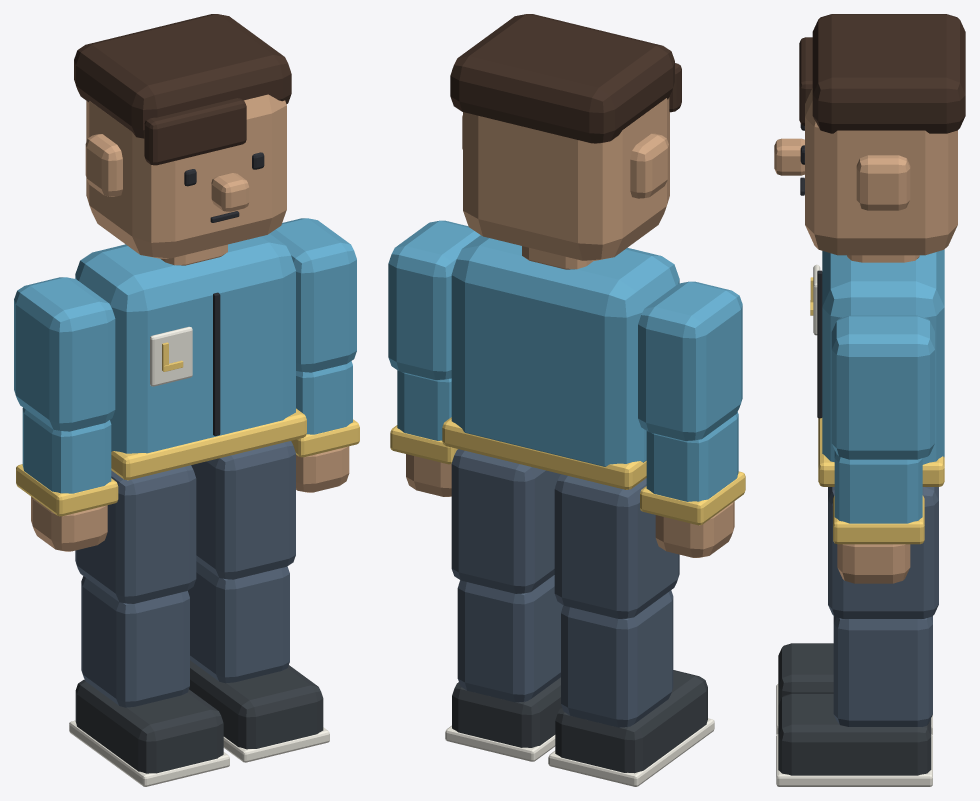
File: learner.glb
The picture shows the model from 3 angles, left to right: view 1: azimuth 30°, elevation 25°; view 2: azimuth 150°, elevation 25°; view 3: azimuth 270°, elevation 25°; orthographic projection. The views are drawn at different scales.
Visible parts, largest first — view 1: Jacket, Head, Hair cap, LeftSleeve, RightThigh, LeftThigh, LeftShin, RightShin, RightSleeve, LeftShoe, RightShoe, LeftForearm (+14 smaller); view 2: Jacket, Head, Hair cap, LeftSleeve, LeftThigh, RightThigh, LeftShin, RightShin, RightSleeve, LeftShoe, LeftForearm, RightShoe (+10 smaller); view 3: Hair cap, Head, RightSleeve, RightShin, Jacket, RightShoe, RightThigh, RightForearm, Ear.001, LeftShoe, RightHand, RightCuff (+7 smaller).
Boxes of the visible parts, bbox=[...] form: Jacket: bbox=[75, 233, 295, 453]; Head: bbox=[86, 94, 286, 258]; Hair cap: bbox=[74, 14, 291, 138]; LeftSleeve: bbox=[14, 277, 115, 431]; RightThigh: bbox=[191, 441, 295, 579]; LeftThigh: bbox=[75, 465, 196, 603]; LeftShin: bbox=[81, 576, 189, 707]; RightShin: bbox=[188, 561, 289, 683]; RightSleeve: bbox=[270, 218, 356, 372]; LeftShoe: bbox=[75, 679, 223, 773]; RightShoe: bbox=[189, 660, 323, 749]; LeftForearm: bbox=[22, 407, 111, 493]; Jacket: bbox=[451, 235, 679, 466]; Head: bbox=[463, 97, 669, 260]; Hair cap: bbox=[450, 14, 674, 143]; LeftSleeve: bbox=[638, 281, 742, 440]; LeftThigh: bbox=[554, 474, 679, 618]; RightThigh: bbox=[451, 449, 560, 593]; LeftShin: bbox=[561, 590, 673, 727]; RightShin: bbox=[457, 575, 563, 702]; RightSleeve: bbox=[388, 220, 480, 380]; LeftShoe: bbox=[555, 670, 707, 773]; LeftForearm: bbox=[646, 412, 738, 501]; RightShoe: bbox=[452, 677, 561, 747]; Hair cap: bbox=[812, 14, 965, 133]; Head: bbox=[805, 88, 957, 255]; RightSleeve: bbox=[831, 315, 934, 459]; RightShin: bbox=[833, 616, 932, 726]; Jacket: bbox=[822, 249, 944, 464]; RightShoe: bbox=[778, 693, 931, 775]; RightThigh: bbox=[828, 487, 938, 618]; RightForearm: bbox=[834, 450, 922, 523]; Ear.001: bbox=[856, 155, 910, 210]; LeftShoe: bbox=[778, 643, 833, 704]; RightHand: bbox=[837, 544, 910, 583]; RightCuff: bbox=[833, 495, 924, 544].
Bounding box in the file's own units: 0.95 × 2.01 × 0.5.
